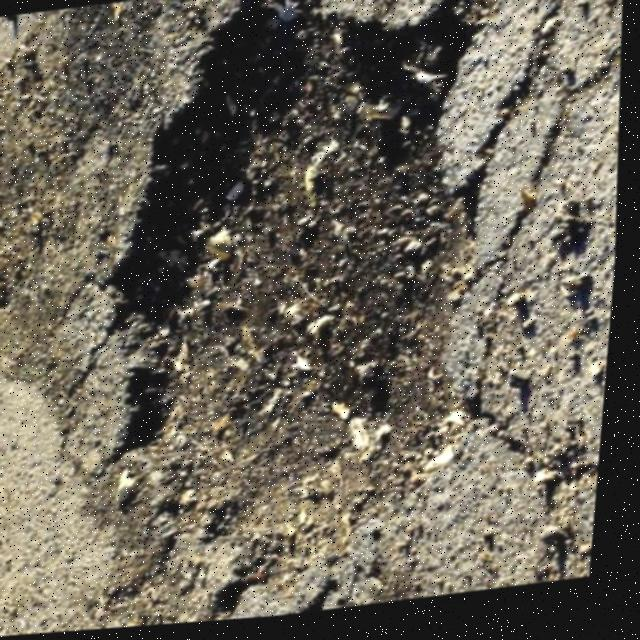Pothole: (65, 0, 514, 626)
